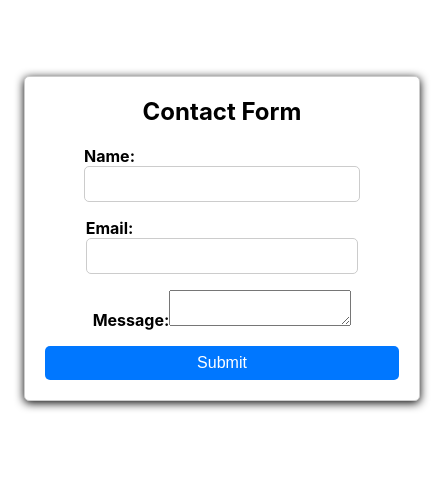
Contact form in ContactForm.js › displays errors for empty fields
Click the button at [222, 362], box [45,346,399,380]
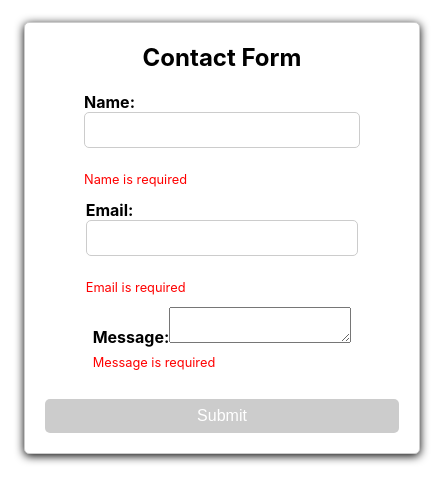
Expected: the text "Name is required" is shown, [84,172,187,187]
Expected: the text "Email is required" is shown, [86,280,186,295]
Expected: the text "Message is required" is shown, [93,355,215,370]
